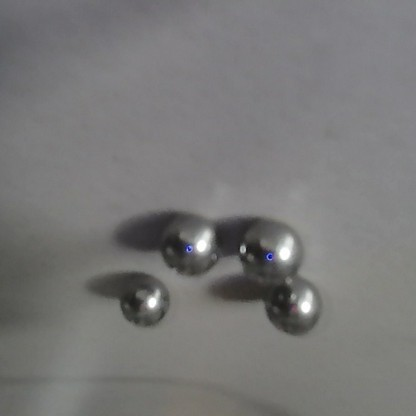ironball: (154, 206, 222, 281), (236, 218, 304, 286), (264, 273, 324, 339), (115, 274, 169, 328)
